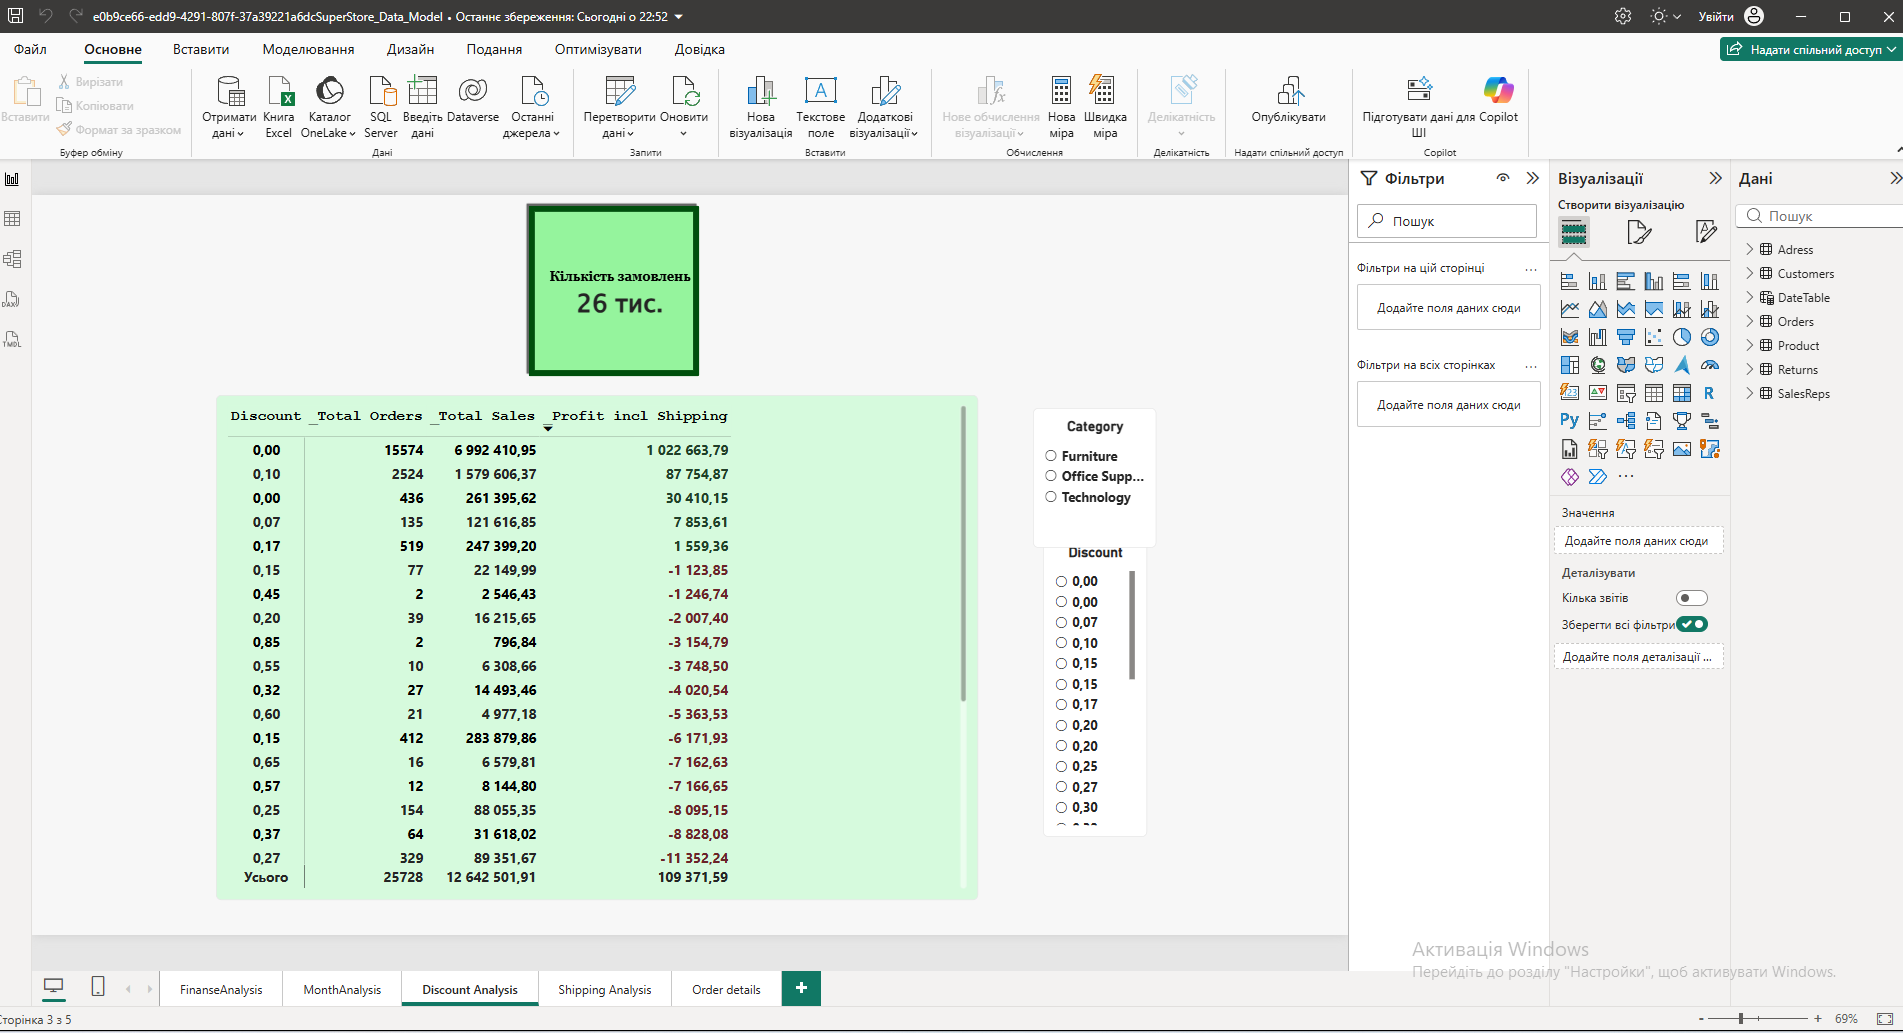

What the dashboard file says about the page in this screenshot:
{"tool":"powerbi","page":{"name":"Discount Analysis","canvas":[1920,1080],"ordinal":2},"visuals":[{"type":"cardVisual","fields":{"Data":["Orders._Total Orders"]},"box":[708.9,0,280,280],"z":0},{"type":"pivotTable","fields":{"Rows":["Orders.Discount"],"Values":["Orders._Total Orders","Orders._Total Sales","Orders._Profit incl Shipping"]},"box":[268.4,292.1,1111.6,737.4],"z":1},{"type":"listSlicer","fields":{"Values":["Orders.Discount"]},"box":[1474.7,494.2,151.6,442.1],"z":2},{"type":"listSlicer","fields":{"Values":["Product.Category"]},"box":[1460.5,311.1,180,203.7],"z":3}]}

Visuals, with their boxes on the page's 1920x1080 design canvas (x1, y1, x2, y2). These are canvas units, not pixel positions in the 1903x1033 screenshot, which may show the page scaled, cropped or inside an application window:
cardVisual - Orders._Total Orders: 709 0 989 280
pivotTable - Orders.Discount x Orders._Total Orders: 268 292 1380 1030
listSlicer - Orders.Discount: 1475 494 1626 936
listSlicer - Product.Category: 1460 311 1640 515
